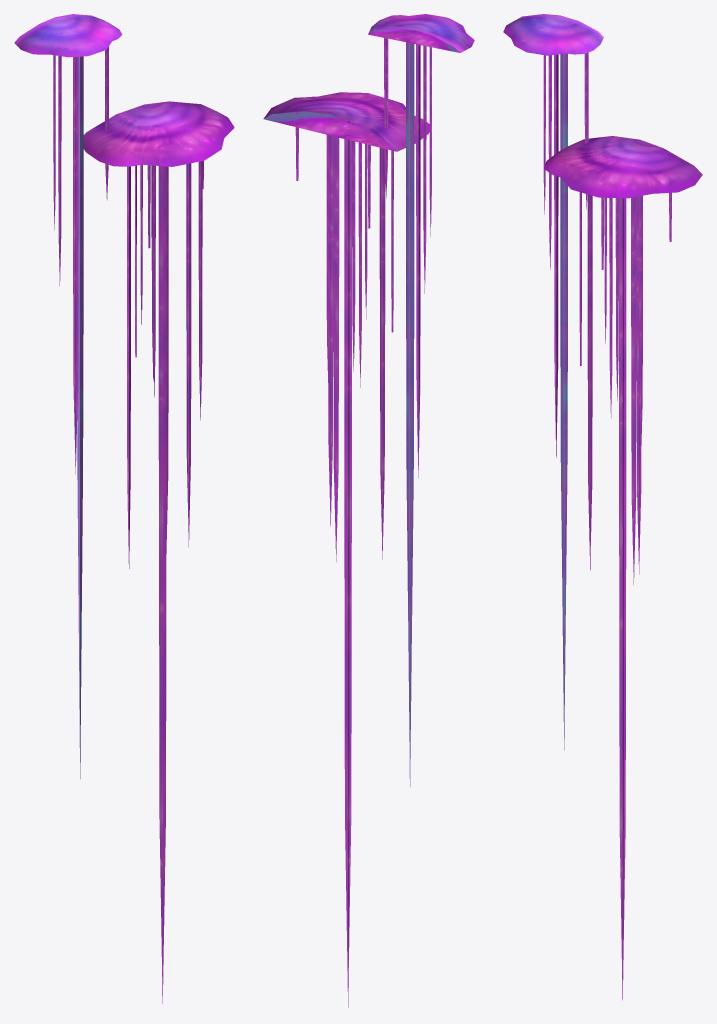
File: h5_lingzhi_a.FBX
3 renders of one model, left to right at view 1: azimuth 30°, elevation 25°; view 2: azimuth 150°, elevation 25°; view 3: azimuth 330°, elevation 25°, orthographic. The views are drawn at different scales.
Visible parts, largest first — view 1: h5_lingzhi_a; view 2: h5_lingzhi_a; view 3: h5_lingzhi_a.
Part boxes in pixels (x1,y1,x2,y2): h5_lingzhi_a: [14, 14, 234, 1003]; h5_lingzhi_a: [263, 14, 474, 1007]; h5_lingzhi_a: [503, 14, 702, 1000].
Bounding box in the file's own units: 4.66 × 21.99 × 2.26.
1 material, 1 textured.
